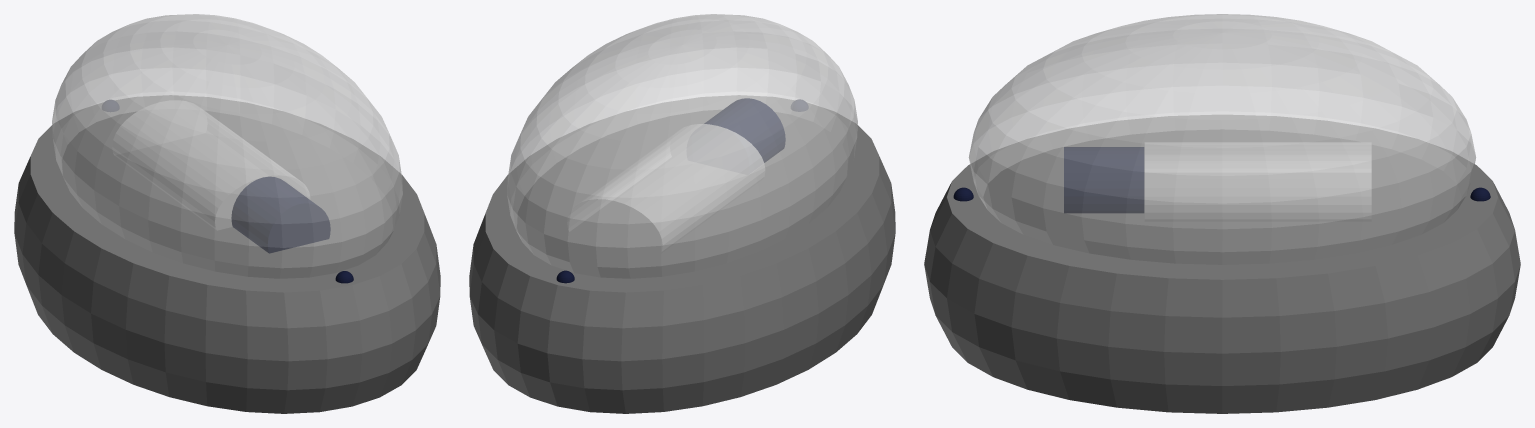
The model's file is лампочка.fbx.
The picture shows the model from 3 angles, left to right: view 1: azimuth 30°, elevation 25°; view 2: azimuth 150°, elevation 25°; view 3: azimuth 270°, elevation 25°; orthographic projection. The views are drawn at different scales.
Parts seen in each view (by area): view 1: Сфера, Цилиндр.001; view 2: Сфера, Цилиндр.001; view 3: Сфера, Цилиндр.001.
Part boxes in pixels (x1=…): Сфера: x1=14, y1=14, x2=440, y2=413; Цилиндр.001: x1=112, y1=100, x2=330, y2=253; Сфера: x1=469, y1=14, x2=895, y2=413; Цилиндр.001: x1=567, y1=98, x2=785, y2=253; Сфера: x1=924, y1=14, x2=1520, y2=413; Цилиндр.001: x1=1064, y1=142, x2=1371, y2=221.
Bounding box in the file's own units: 35.49 × 27.6 × 50.01.
